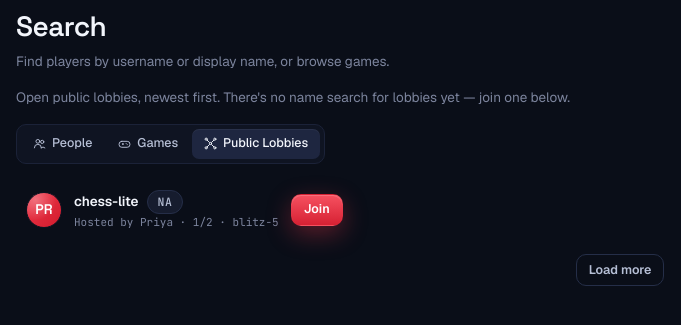
SearchResultsPage — Public Lobbies tab › Load more traverses via the cursor
This screenshot has width=681, height=325.
Click the button "Load more". click: click(620, 270)
box: [576,254,664,286]
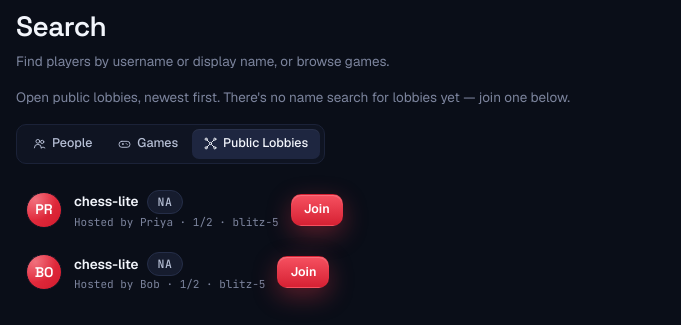
Expected: the text "Hosted by Bob · 1/2 · blitz-5" is shown, [74,276,266,292]
